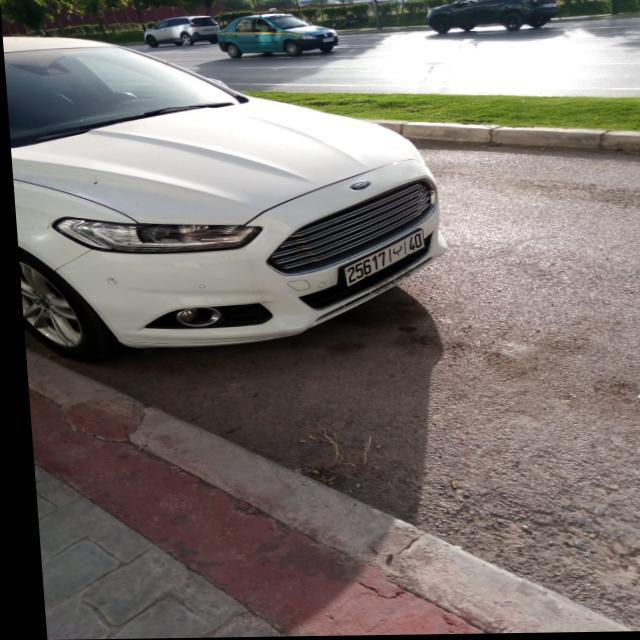License-Plate: (339, 231, 420, 287)
